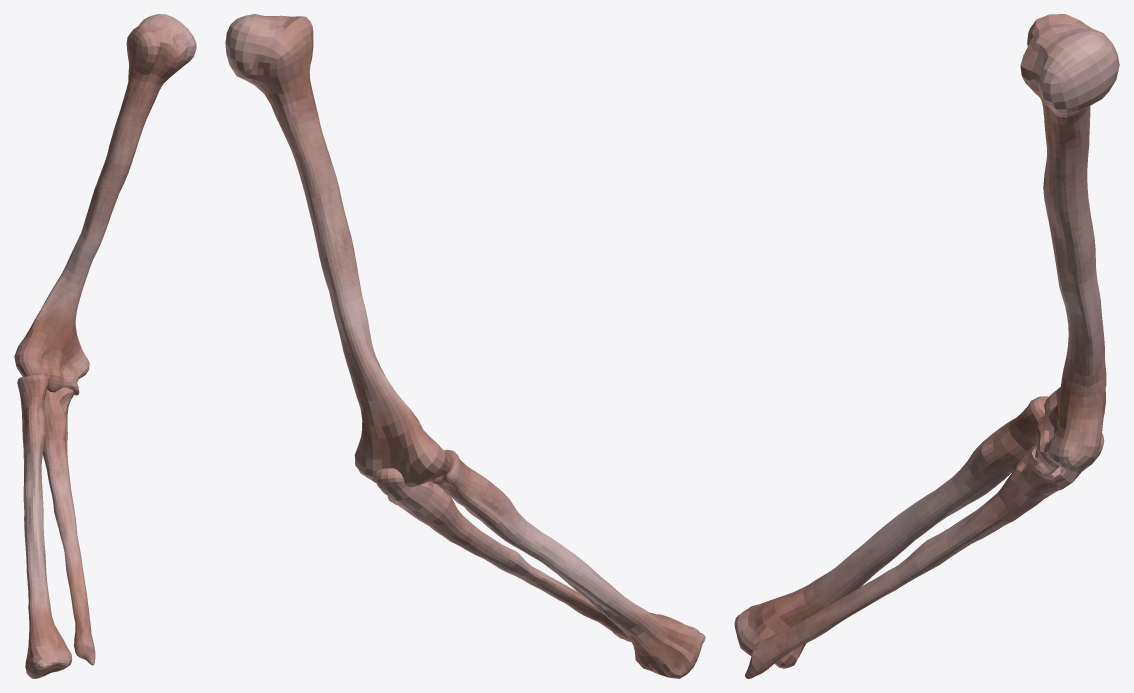
Rendered from right_humerus_ulna_radius.obj.
3 renders of one model, left to right at view 1: azimuth 30°, elevation 25°; view 2: azimuth 150°, elevation 25°; view 3: azimuth 270°, elevation 25°, orthographic. The views are drawn at different scales.
Parts seen in each view (by area): view 1: right_humerus_ulna_radius; view 2: right_humerus_ulna_radius; view 3: right_humerus_ulna_radius.
Boxes of the visible parts, box(x1,y1,x2,y2) form: right_humerus_ulna_radius: box(14, 14, 196, 678); right_humerus_ulna_radius: box(225, 14, 705, 678); right_humerus_ulna_radius: box(734, 14, 1119, 678).
Bounding box in the file's own units: 1.91 × 3.67 × 1.62.
